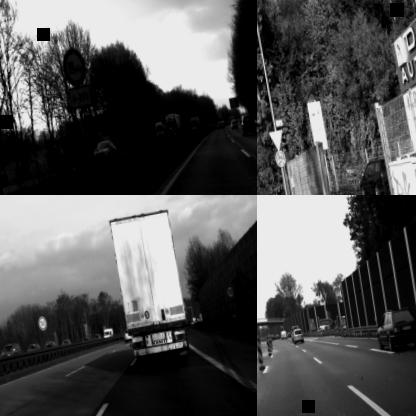give way: (268, 128, 284, 150)
no overtaking: (60, 45, 89, 87)
roundabout: (274, 148, 286, 166)
speed limit 100: (224, 282, 235, 299), (37, 315, 48, 331)
